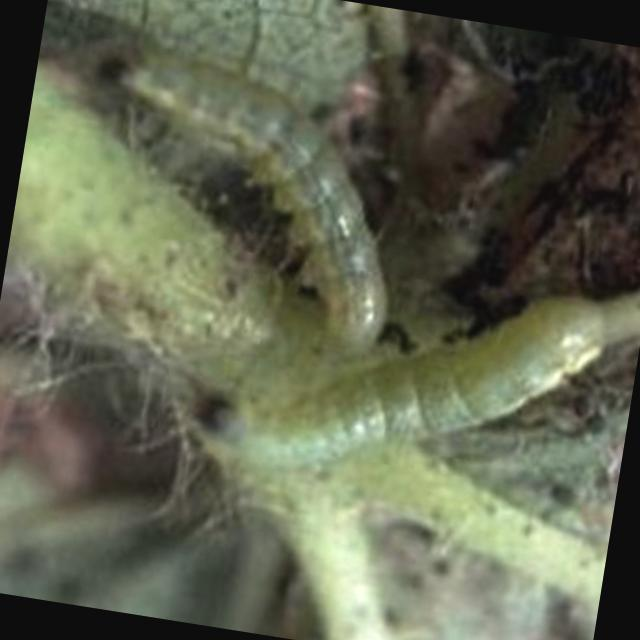Beet armyworm: (172, 211, 632, 587), (38, 0, 445, 363)
